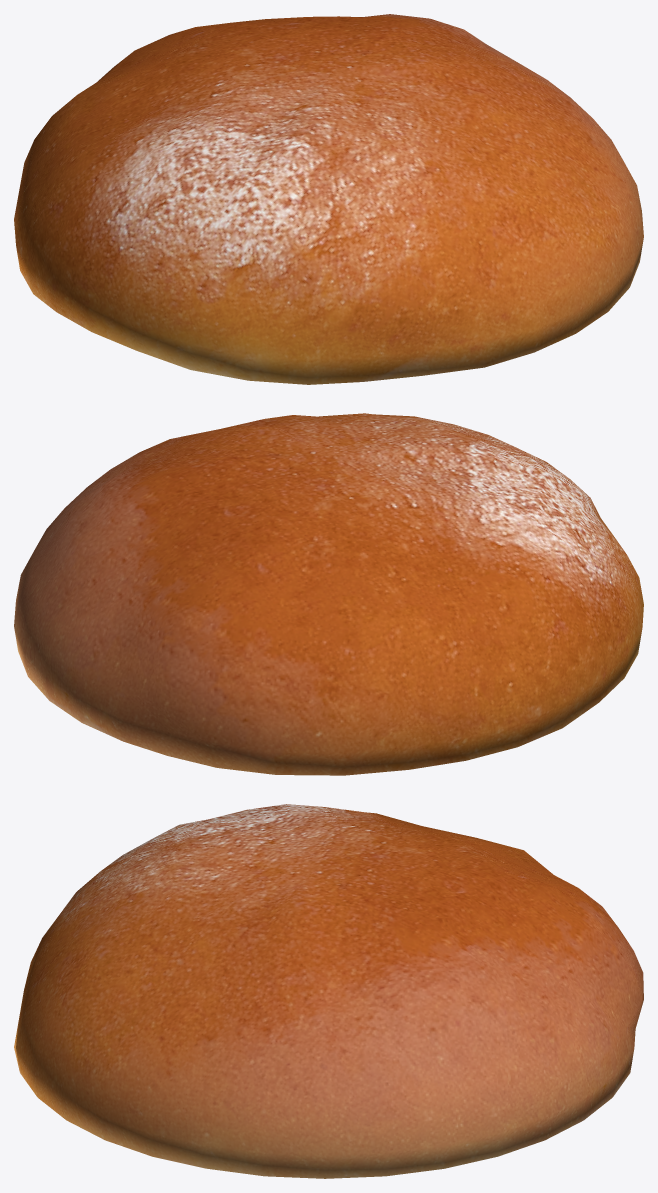
File: Burger_upper_bread_mcdonald.fbx
3 views of the same model, one above another, from view 1: azimuth 30°, elevation 25°; view 2: azimuth 150°, elevation 25°; view 3: azimuth 270°, elevation 25° (orthographic).
Visible parts, largest first — view 1: upper_burger_bread; view 2: upper_burger_bread; view 3: upper_burger_bread.
Part boxes in pixels (box(x1,y1,x2,y2)): upper_burger_bread: box(14, 14, 643, 384); upper_burger_bread: box(14, 413, 643, 775); upper_burger_bread: box(14, 804, 643, 1178).
Size of the model in its own units: 60.46 by 19.71 by 60.14.
1 material, 1 textured.
